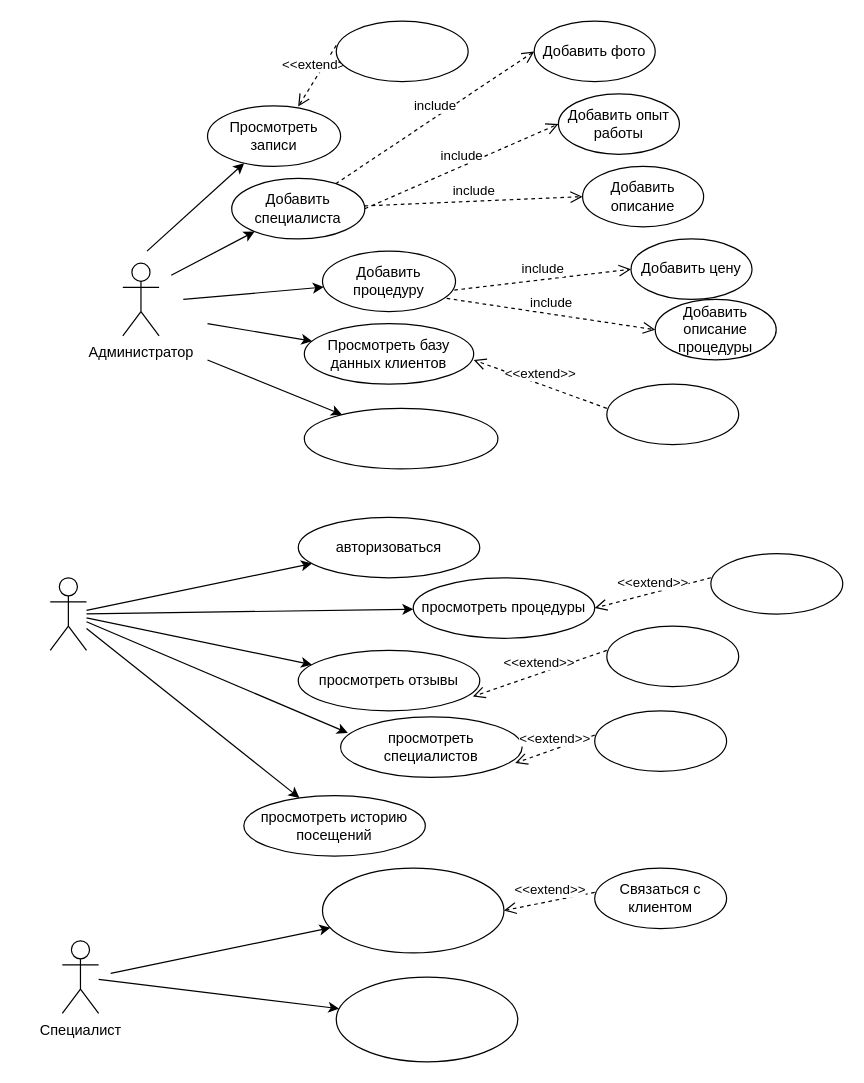
This 864x1083 diagram has some shape labels left out. Each missing label, with the centre of its shape:
записаться на прием: [660,740]
записаться на процедуру: [776,583]
оставить отзыв: [672,656]
Подтвердить запись: [401,51]
Пользователь: [68,613]
Просмотр информации о клиенте: [412,910]
Просмотр своего расписсания: [426,1019]
Создать/удалить акцию, спец. предложение: [400,438]
Удалить клиенат: [672,414]
